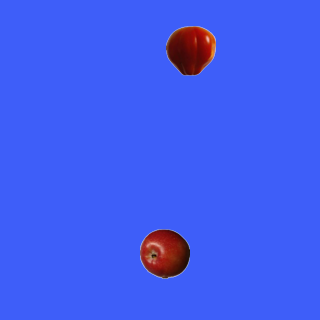Apple Braeburn: (139, 228, 189, 278)
Tomato 1: (165, 25, 215, 75)
